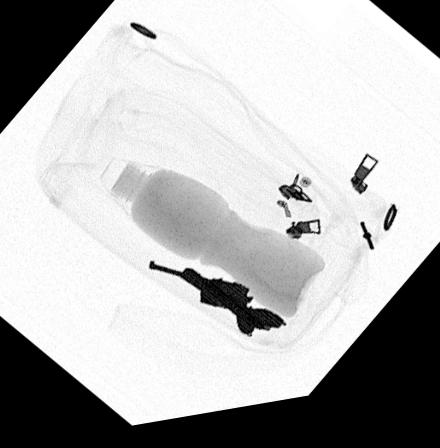Gun: (148, 266, 254, 343), (179, 274, 285, 339)
